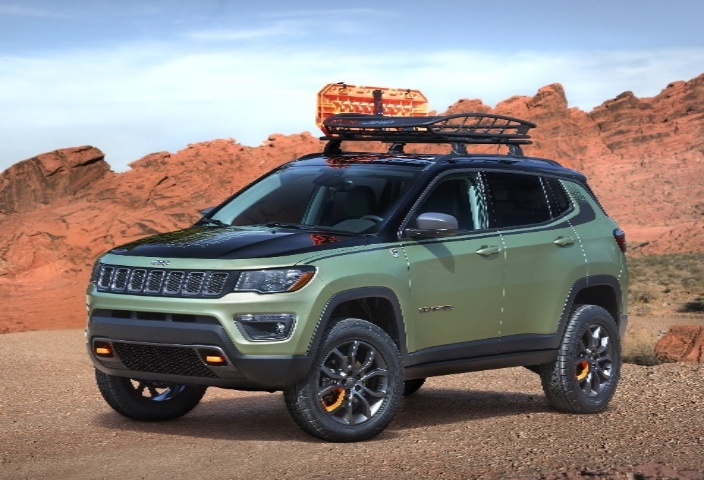camper: (9, 114, 652, 465)
